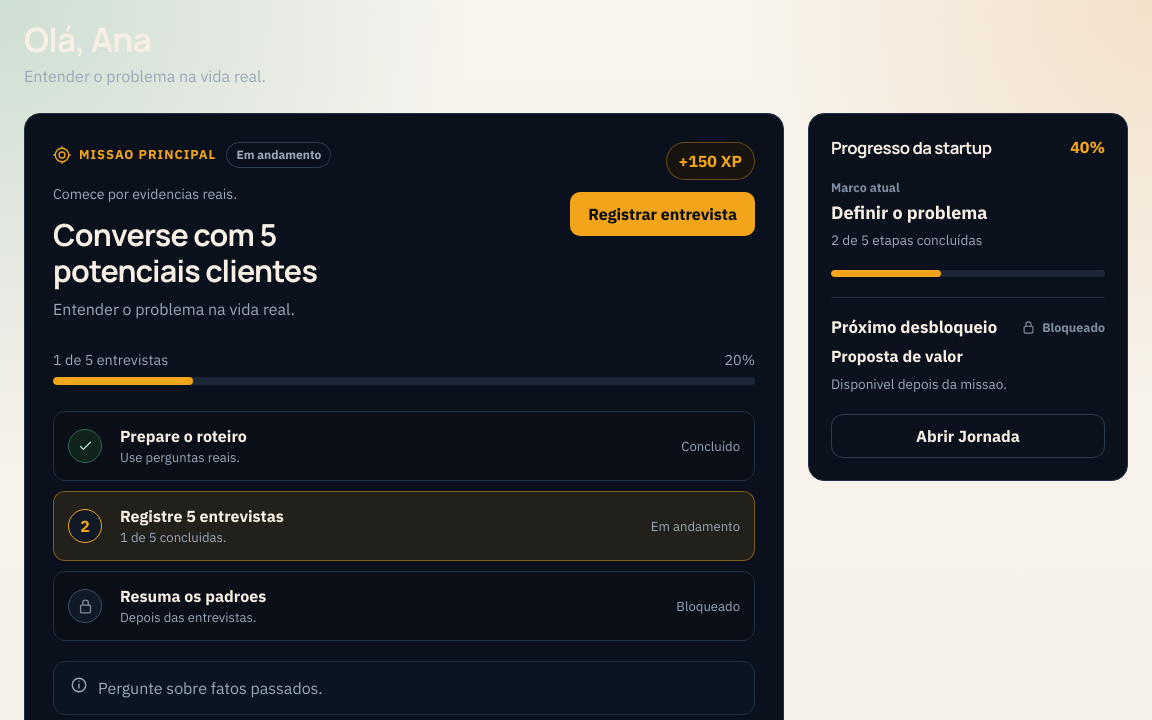
Test: StartupHomeScreen › shows the contextual ordinal for the next interview
The width and height of the screenshot is (1152, 720).
Click the text "Registre 5 entrevistas".
click(202, 516)  # box [120,506,284,526]
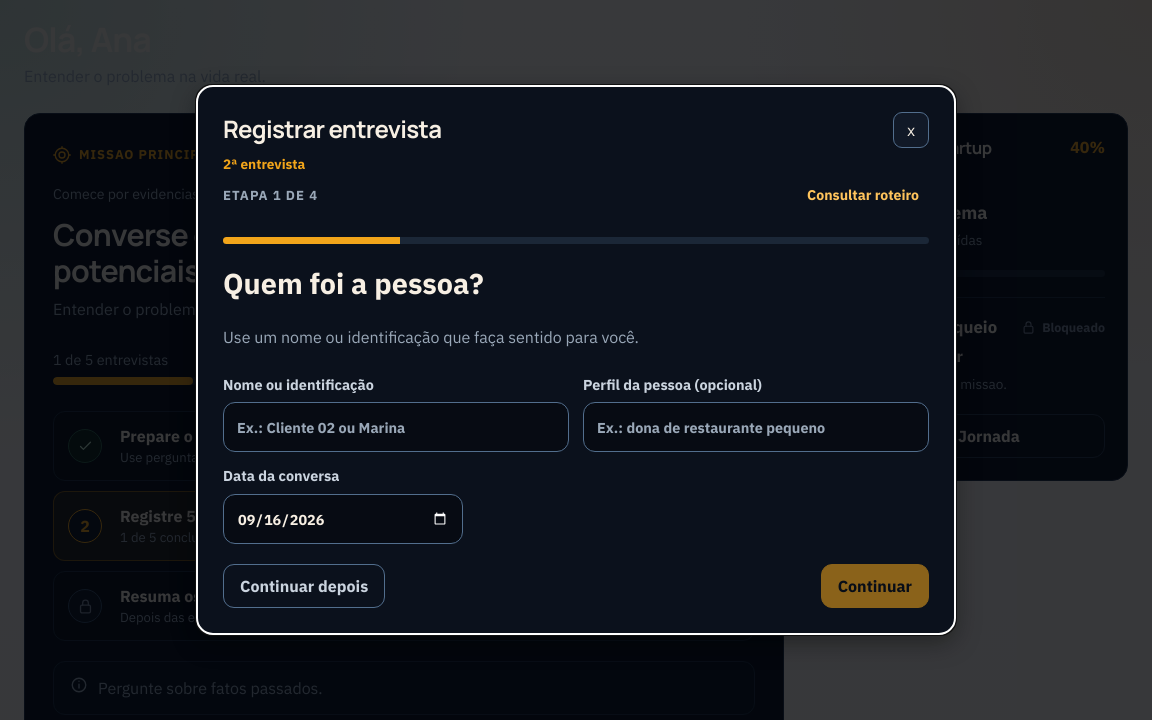
Check: the text "2ª entrevista" is shown, box [223,155,305,173]
